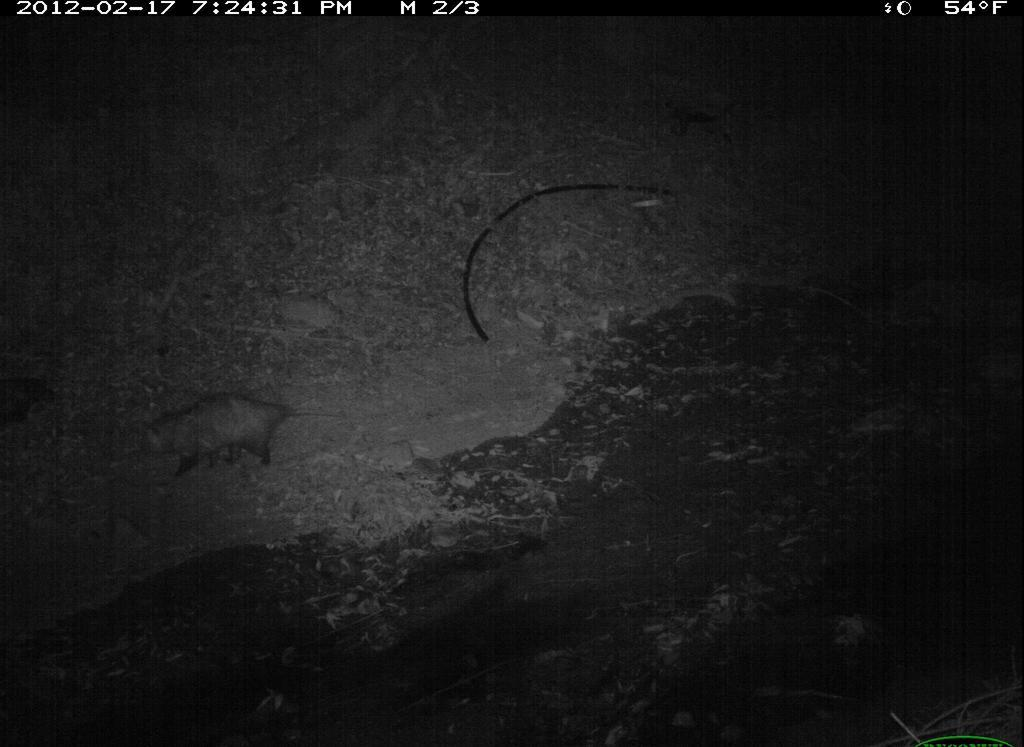opossum: (139, 393, 347, 480)
